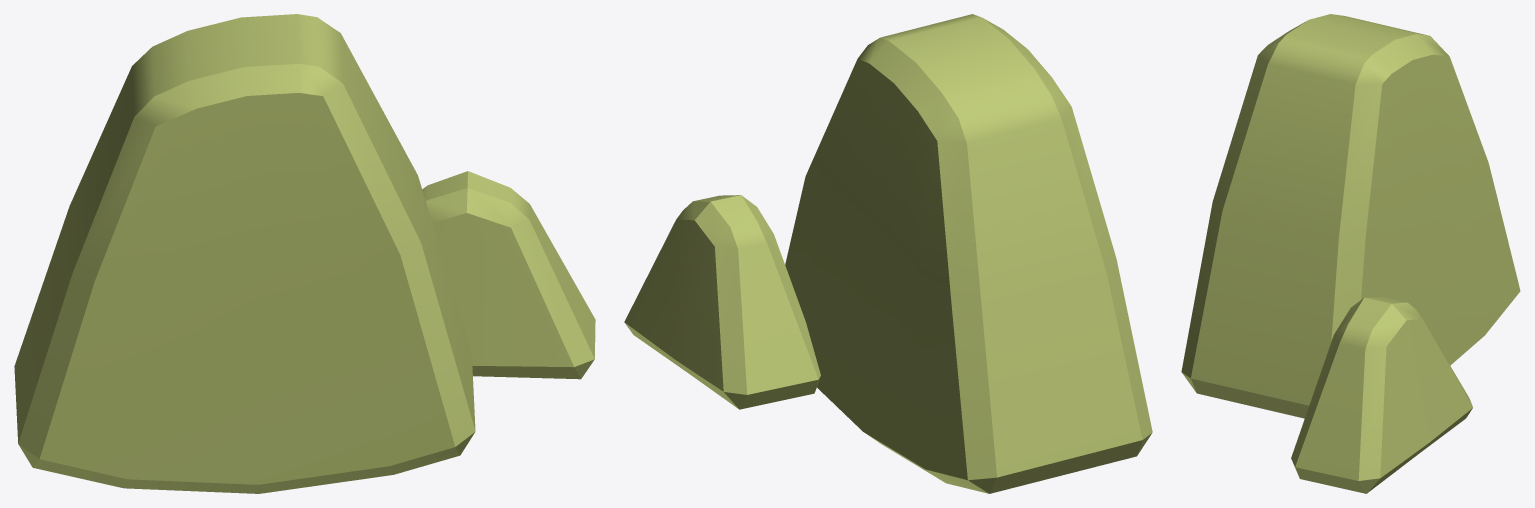
The model's file is PlantTwo.fbx.
The picture shows the model from 3 angles, left to right: view 1: azimuth 30°, elevation 25°; view 2: azimuth 150°, elevation 25°; view 3: azimuth 270°, elevation 25°; orthographic projection. The views are drawn at different scales.
Parts seen in each view (by area): view 1: pCube39, pCube40; view 2: pCube39, pCube40; view 3: pCube39, pCube40.
Part boxes in pixels (bbox=[...]): pCube39: bbox=[14, 14, 475, 493]; pCube40: bbox=[422, 171, 595, 379]; pCube39: bbox=[785, 14, 1152, 493]; pCube40: bbox=[624, 195, 820, 409]; pCube39: bbox=[1181, 14, 1520, 418]; pCube40: bbox=[1291, 297, 1472, 493].
Bounding box in the file's own units: 1.96 × 1.37 × 1.22.
